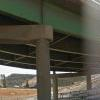Bridge: (12, 3, 98, 74)
